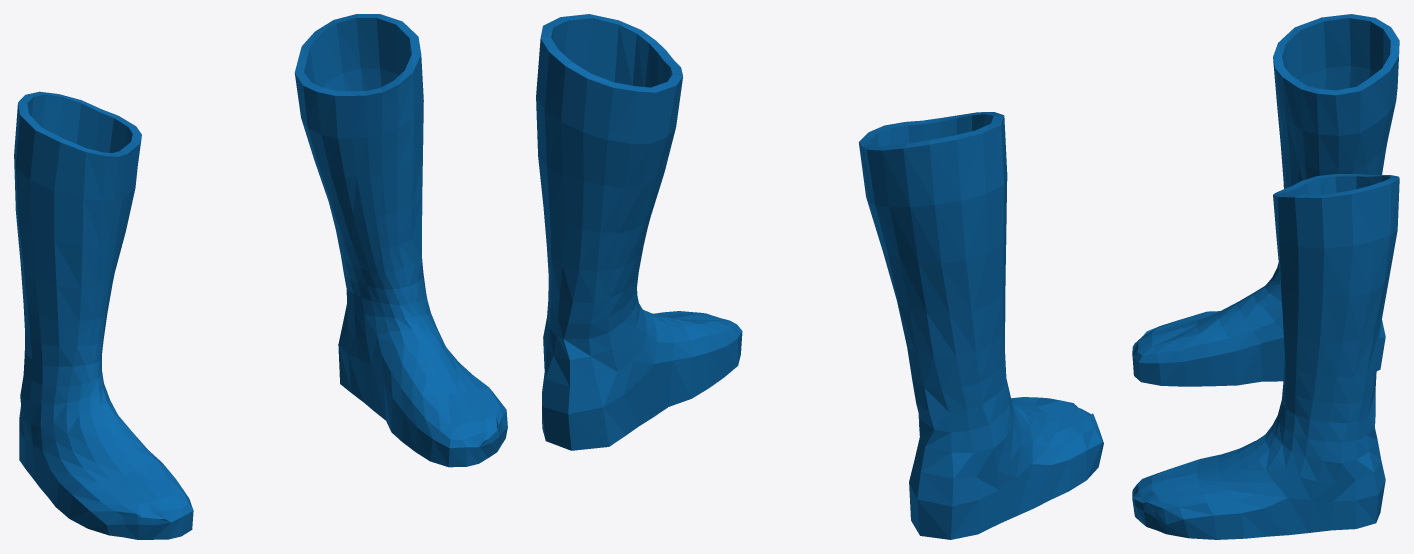
File: mhw_culturalibre_hero_boots_2.glb
3 views of the same model, side by side, from view 1: azimuth 30°, elevation 25°; view 2: azimuth 150°, elevation 25°; view 3: azimuth 270°, elevation 25° (orthographic). The views are drawn at different scales.
Parts seen in each view (by area): view 1: mhw_culturalibre_hero_boots_2; view 2: mhw_culturalibre_hero_boots_2; view 3: mhw_culturalibre_hero_boots_2.
Part boxes in pixels (x1,y1,x2,y2): mhw_culturalibre_hero_boots_2: [14, 14, 507, 539]; mhw_culturalibre_hero_boots_2: [536, 14, 1103, 539]; mhw_culturalibre_hero_boots_2: [1132, 14, 1399, 539].
Bounding box in the file's own units: 0.5504 × 0.4376 × 0.3117.
Materials: 1 (1 with a texture image).
